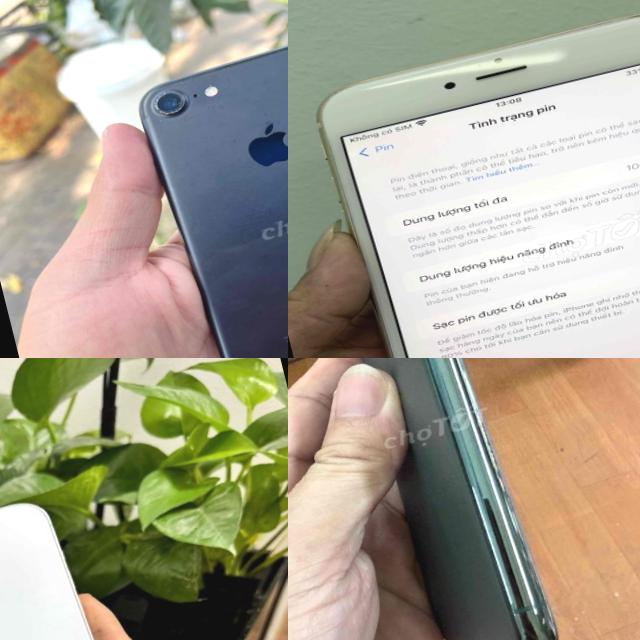gen_11: (295, 358, 578, 640)
gen_14: (0, 474, 165, 640)
gen_6: (318, 16, 640, 358), (385, 153, 640, 235)
gen_7_8: (130, 14, 288, 358)
